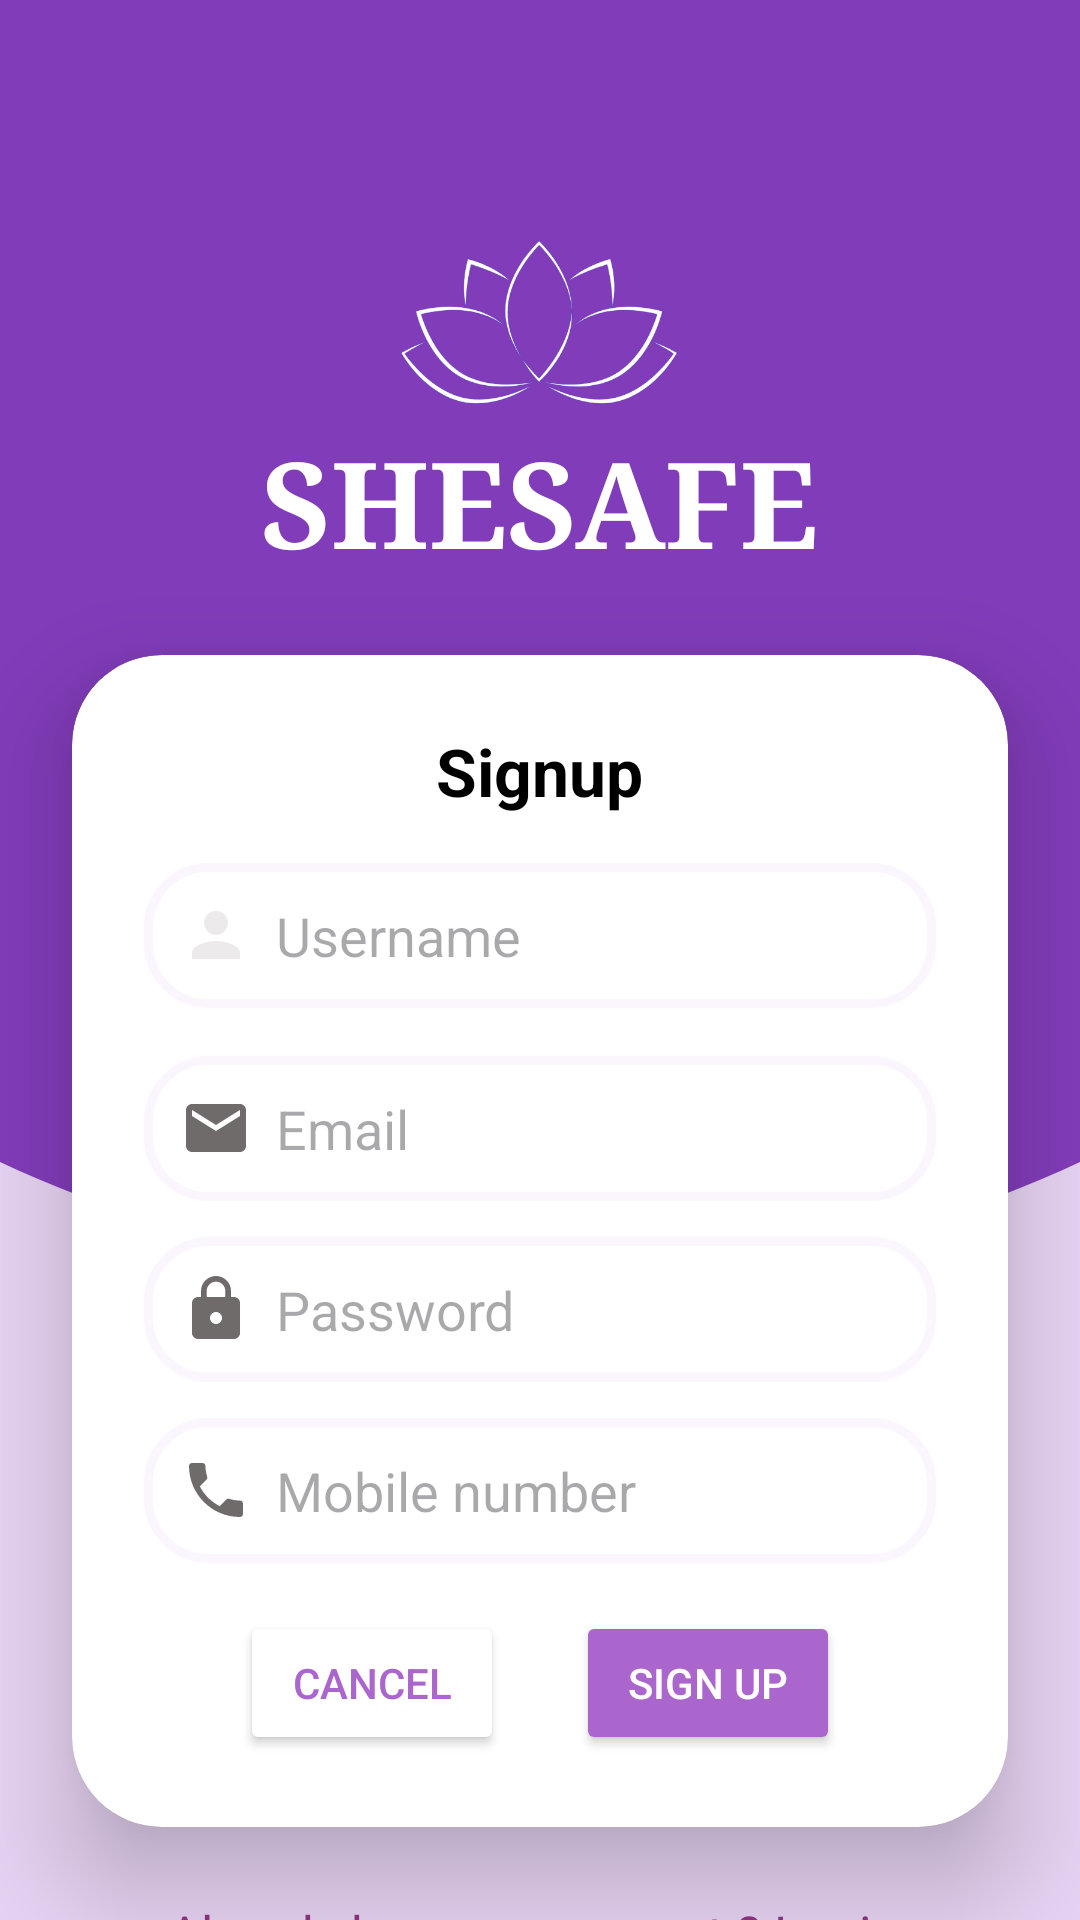

Named icons in this screenshot (1080*1920) and their centers, point (x, y):
lotus: point (539, 322)
